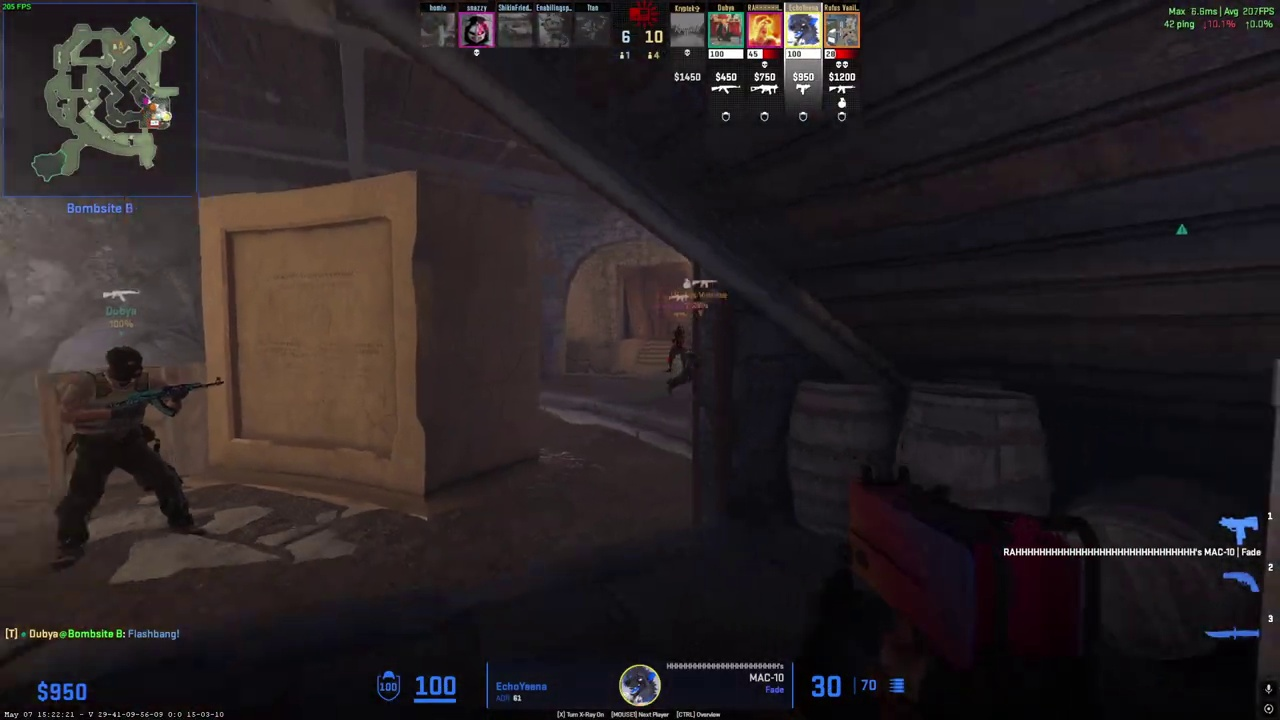Terrorist: (55, 345, 197, 566), (667, 326, 687, 372)
